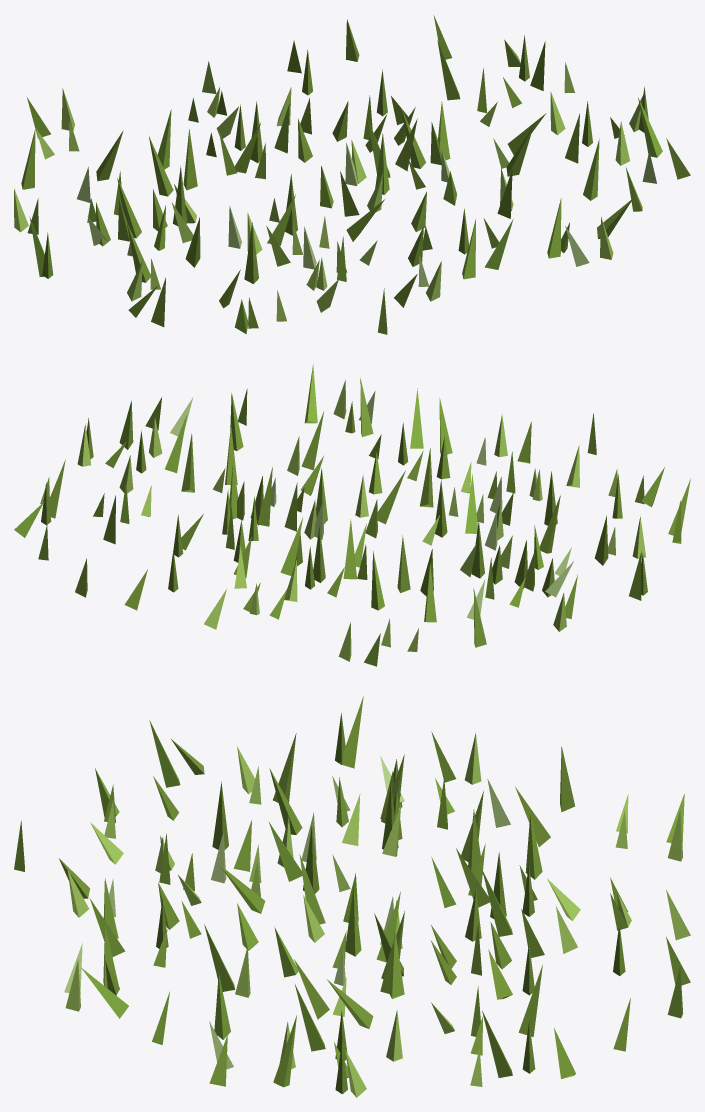
File: grass.fbx
The picture shows the model from 3 angles, top to bottom: view 1: azimuth 30°, elevation 25°; view 2: azimuth 150°, elevation 25°; view 3: azimuth 270°, elevation 25°; orthographic projection. The views are drawn at different scales.
Visible parts, largest first — view 1: grass; view 2: grass; view 3: grass.
Part boxes in pixels (left/top/right/bottom): grass: left=14, top=15, right=690, bottom=334; grass: left=14, top=364, right=690, bottom=666; grass: left=14, top=696, right=690, bottom=1097.
Size of the model in its own units: 303 by 29.15 by 258.
